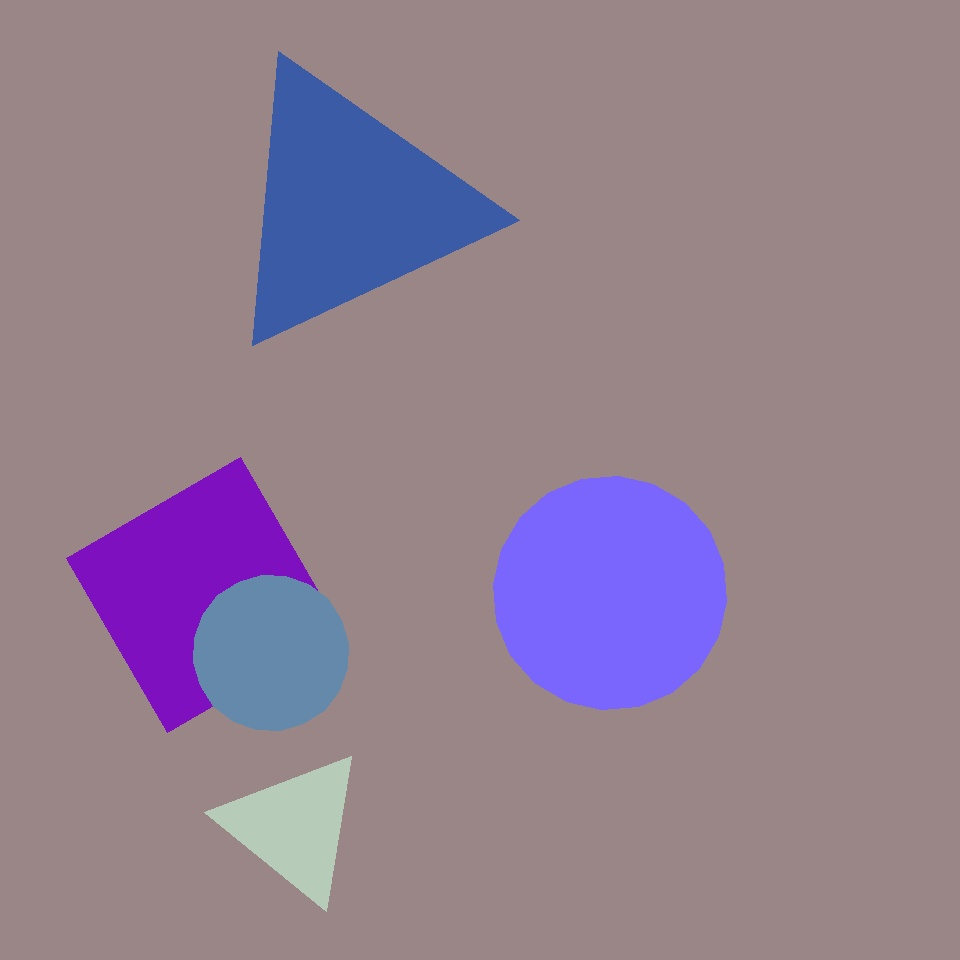circle: (378, 478, 659, 770), (216, 59, 484, 353), (740, 638, 930, 844), (221, 750, 368, 904)
square: (66, 458, 342, 732), (326, 2, 595, 271)
triangle: (494, 476, 726, 710), (193, 576, 348, 730)
